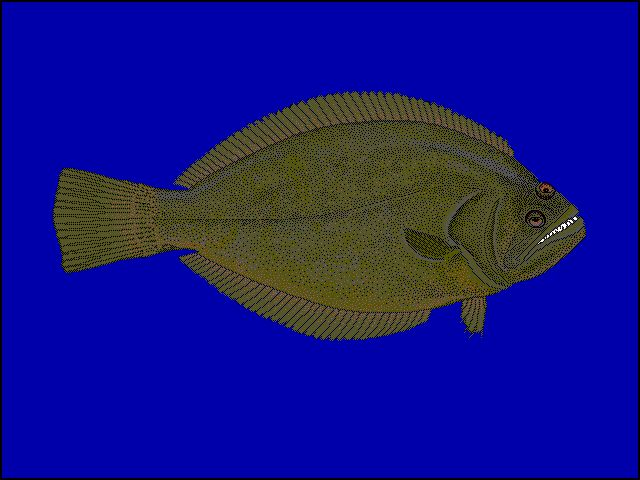fish: (51, 89, 587, 342)
